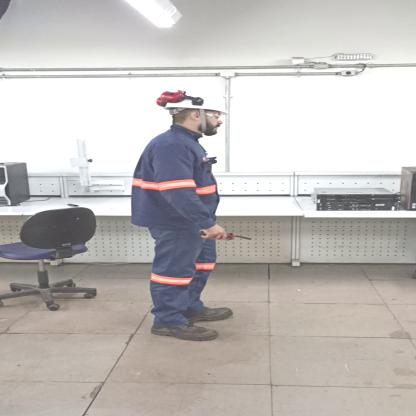Capacete: (154, 85, 230, 114)
